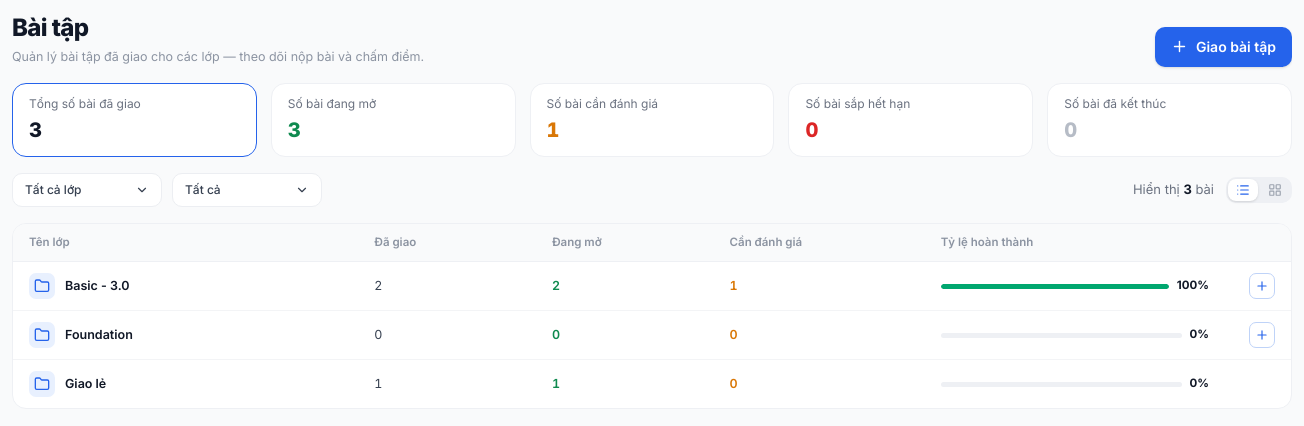
AssignmentsPage › hides the folders with nothing to review when that card is pressed
The width and height of the screenshot is (1304, 426).
expect the button with test id "class-folder-row-c2" is shown: met, box [13, 311, 1291, 360]
Click the button with test id "filter-stat-needReview": x=652, y=120 [530, 83, 774, 157]
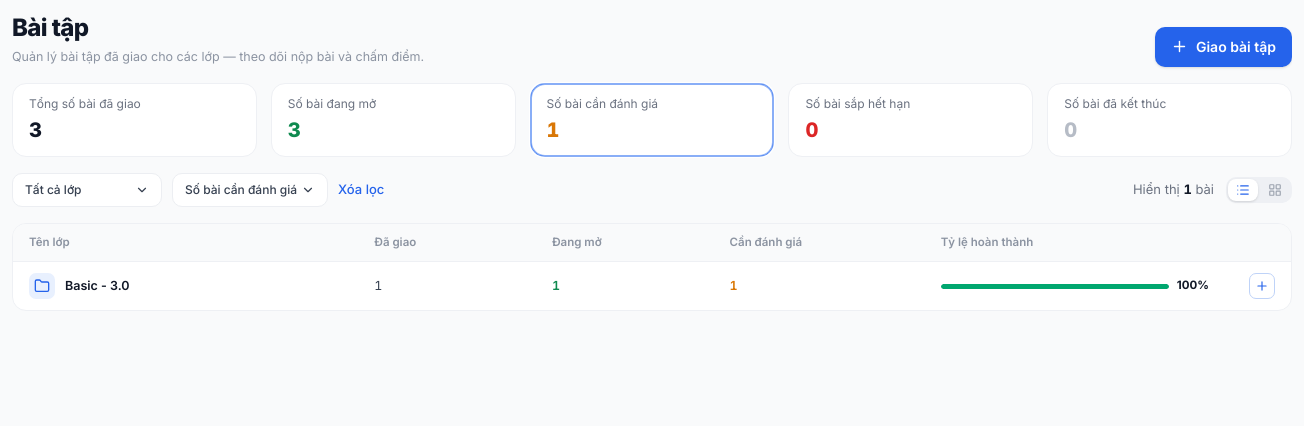
expect the button with test id "class-folder-row-c1" shows "1": met, box [29, 273, 1275, 299]
expect the button with test id "class-folder-row-c2" is gone: met
expect the button with test id "class-folder-row-__solo__" is gone: met
